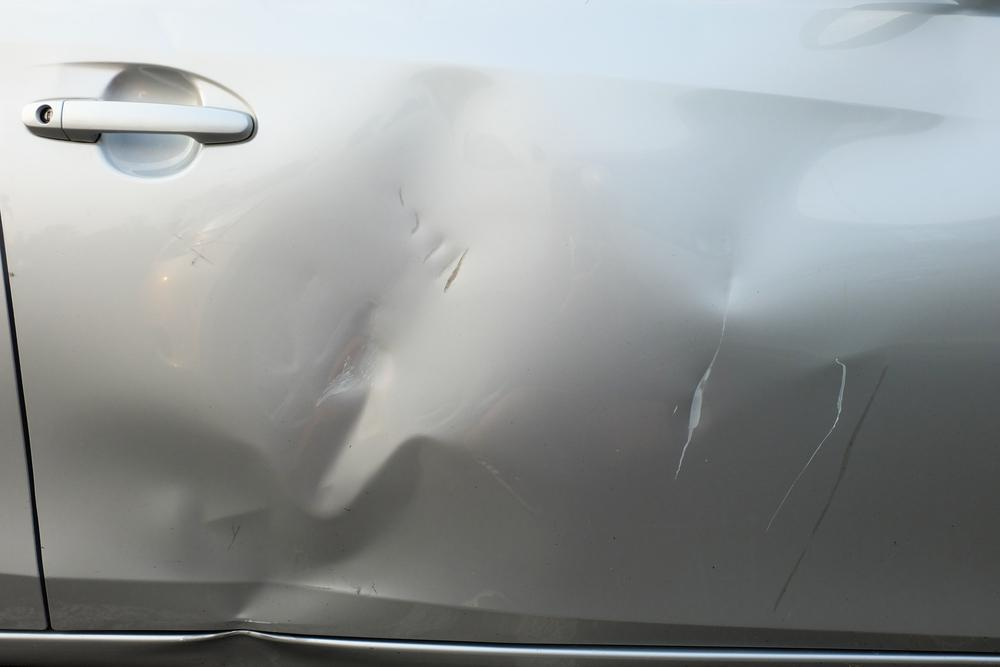dent: (138, 53, 975, 635), (668, 357, 715, 471)
scratch: (768, 366, 888, 615), (763, 357, 849, 537)
